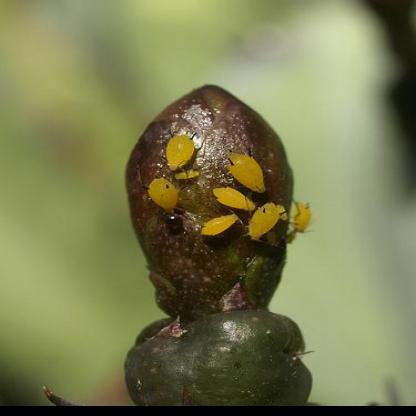aphid: (217, 146, 277, 195), (134, 171, 192, 214), (158, 130, 203, 173), (212, 177, 258, 216), (192, 209, 241, 243), (247, 200, 282, 246), (288, 194, 318, 242)
